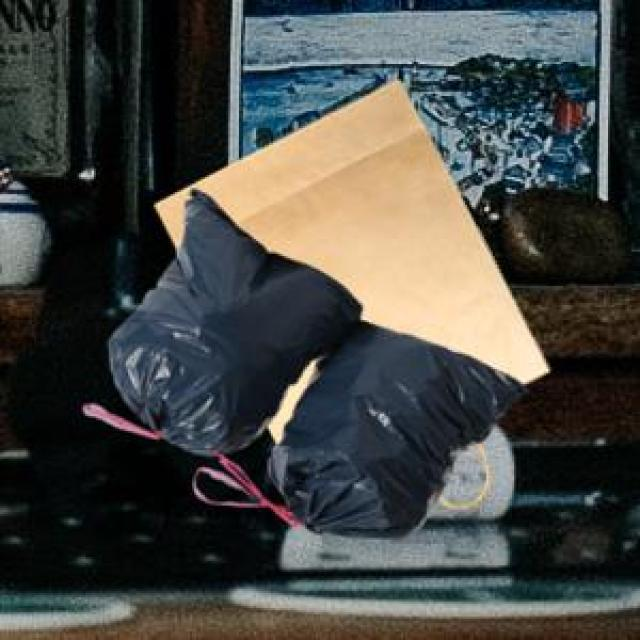miscellaneous trash: (79, 186, 523, 533)
paper: (152, 77, 544, 504)
